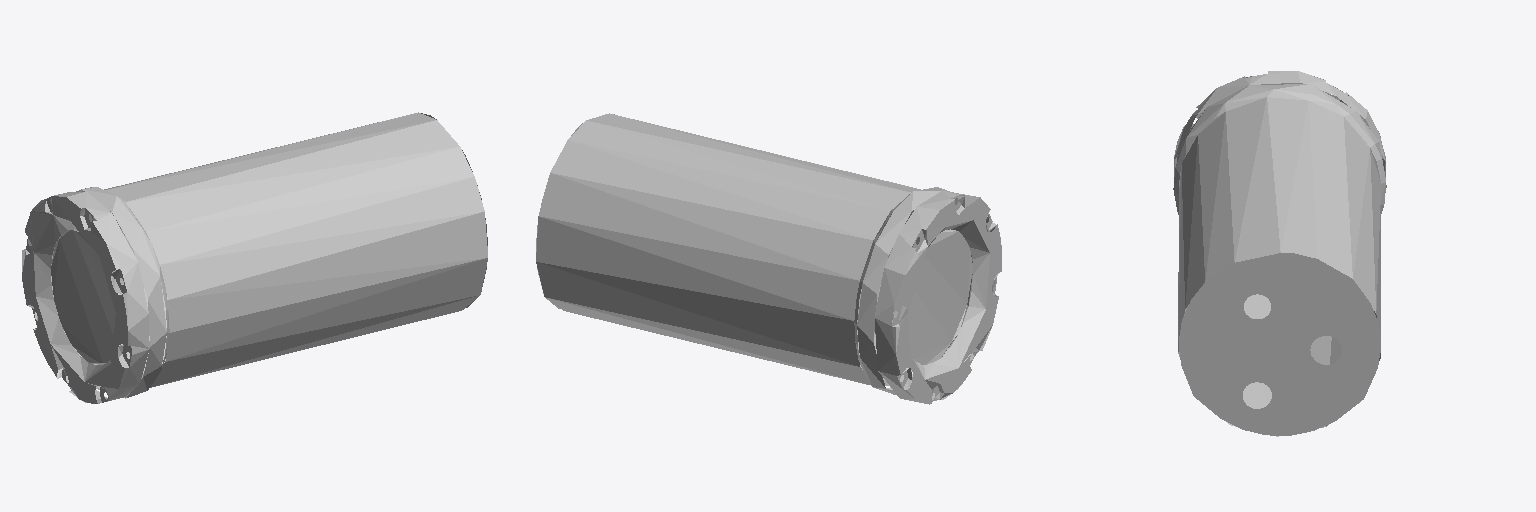
The model's file is cam02.obj.
3 renders of one model, left to right at view 1: azimuth 30°, elevation 25°; view 2: azimuth 150°, elevation 25°; view 3: azimuth 270°, elevation 25°, orthographic.
Size of the model in its own units: 0.1652 by 0.0846 by 0.0841.